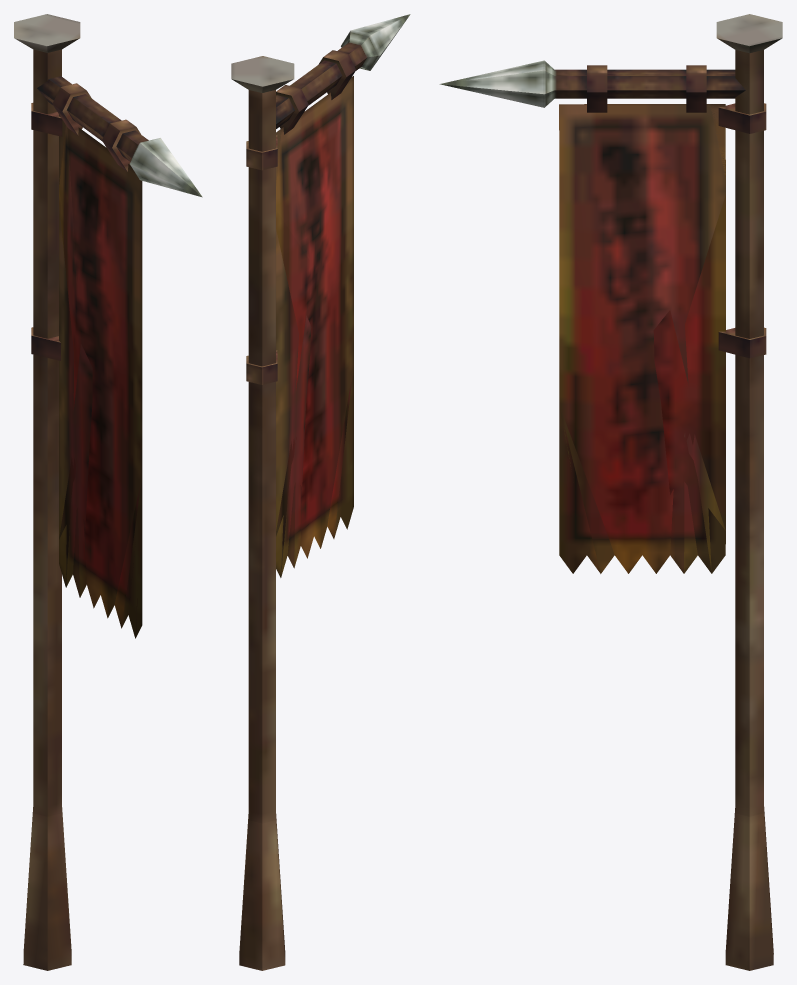
Rendered from general_obj_flag.fbx.
3 renders of one model, left to right at view 1: azimuth 30°, elevation 25°; view 2: azimuth 150°, elevation 25°; view 3: azimuth 270°, elevation 25°, orthographic. The views are drawn at different scales.
Visible parts, largest first — view 1: Object03; view 2: Object03; view 3: Object03.
Boxes of the visible parts, x1,y1,x2,y2 form: Object03: [14, 14, 202, 970]; Object03: [231, 14, 410, 970]; Object03: [439, 14, 782, 970].
Size of the model in its own units: 0.27 by 3.63 by 1.22.
